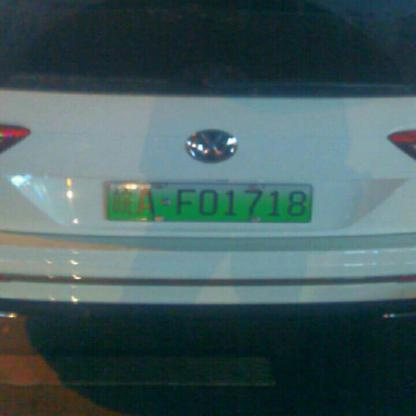lp: (107, 184, 312, 221)
